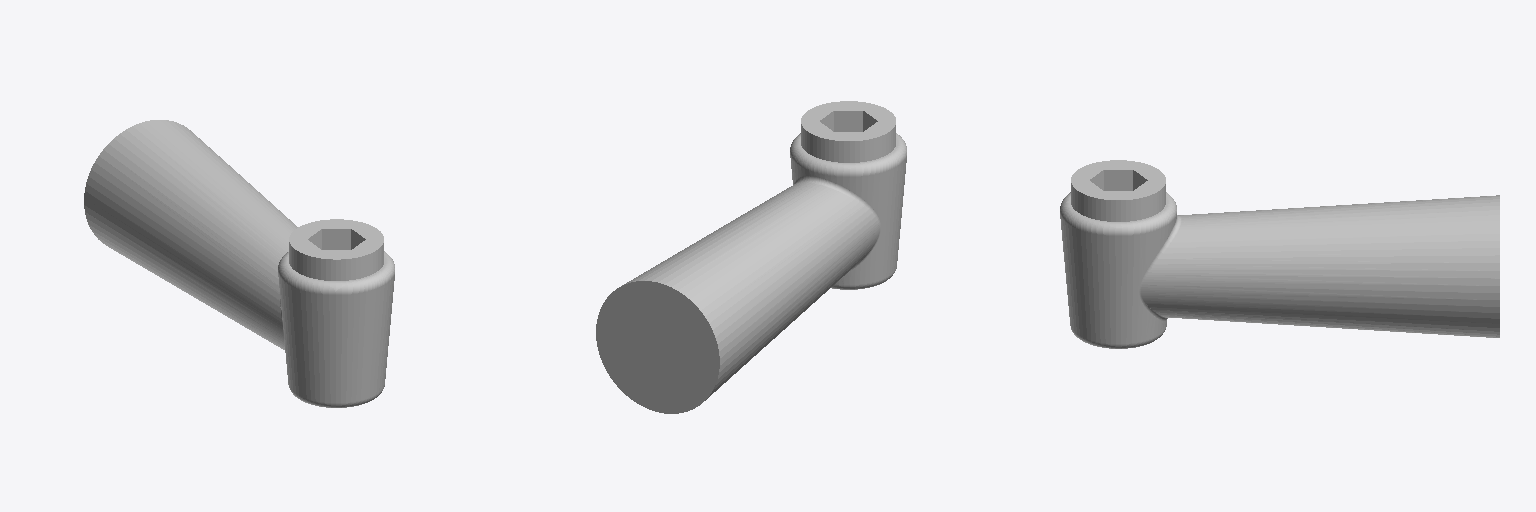
Rendered from drill_nobolt.obj.
3 views of the same model, side by side, from view 1: azimuth 30°, elevation 25°; view 2: azimuth 150°, elevation 25°; view 3: azimuth 270°, elevation 25° (orthographic).
Parts seen in each view (by area): view 1: Drill2_NoBolt; view 2: Drill2_NoBolt; view 3: Drill2_NoBolt.
Part boxes in pixels (left/top/right/bottom): Drill2_NoBolt: left=84, top=120, right=394, bottom=407; Drill2_NoBolt: left=596, top=101, right=906, bottom=413; Drill2_NoBolt: left=1060, top=160, right=1499, bottom=348.
Size of the model in its own units: 0.0761 by 0.0889 by 0.2345.